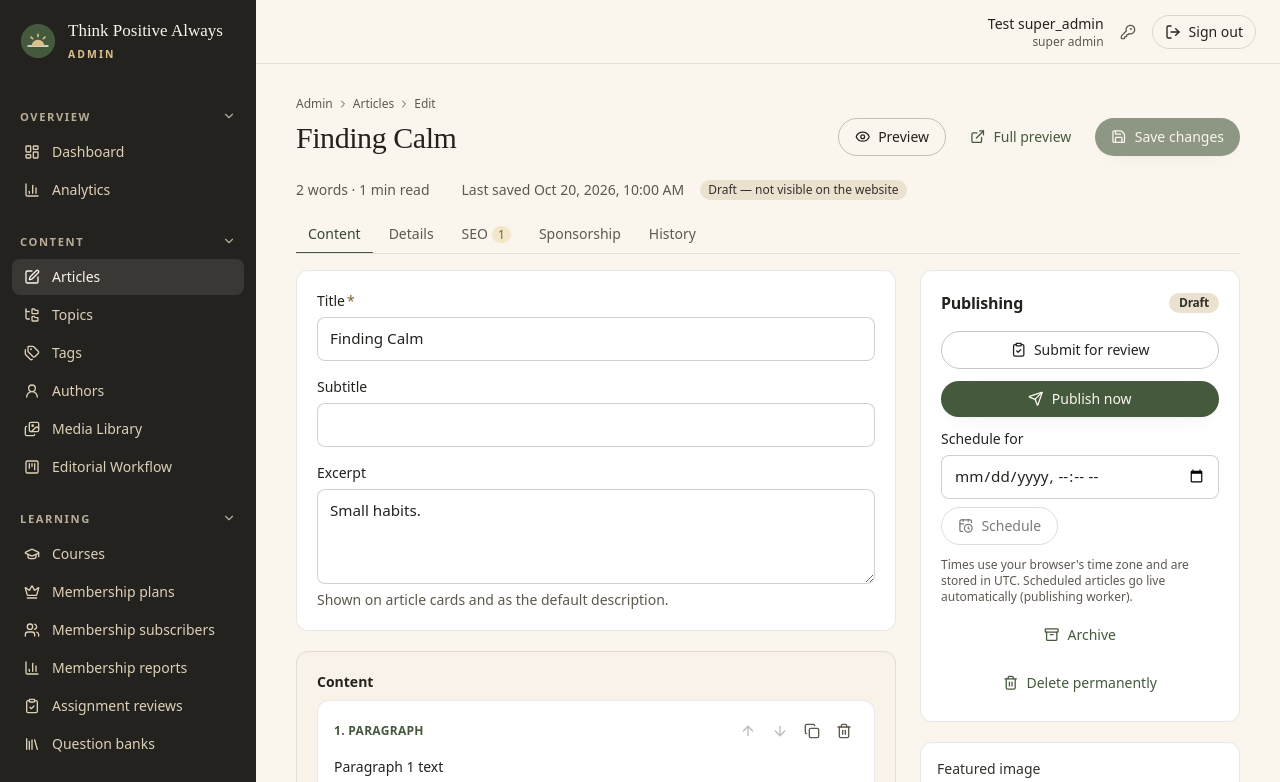
it: article editor sections › organises the editor in tabs and shows word count and draft status
Check: the text "2 words · 1 min read" is shown, box x1=296 y1=180 x2=430 y2=200
Check: the text "Draft — not visible on the website" is shown, box x1=700 y1=180 x2=907 y2=200
Click the tab "Details" at [411, 235], box x1=377 y1=216 x2=446 y2=254
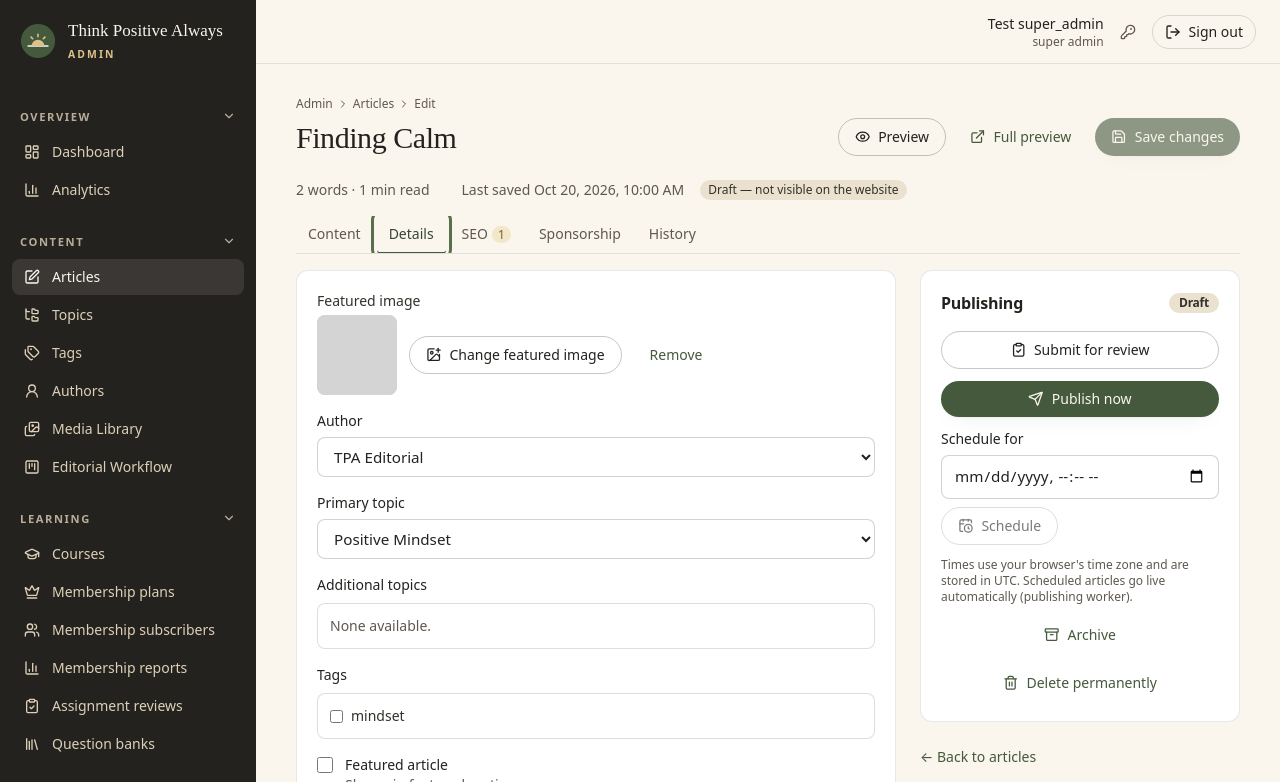
Check: the dropdown labelled "Author" is shown, box x1=317 y1=437 x2=875 y2=477
Check: the label labelled "Title" is gone
